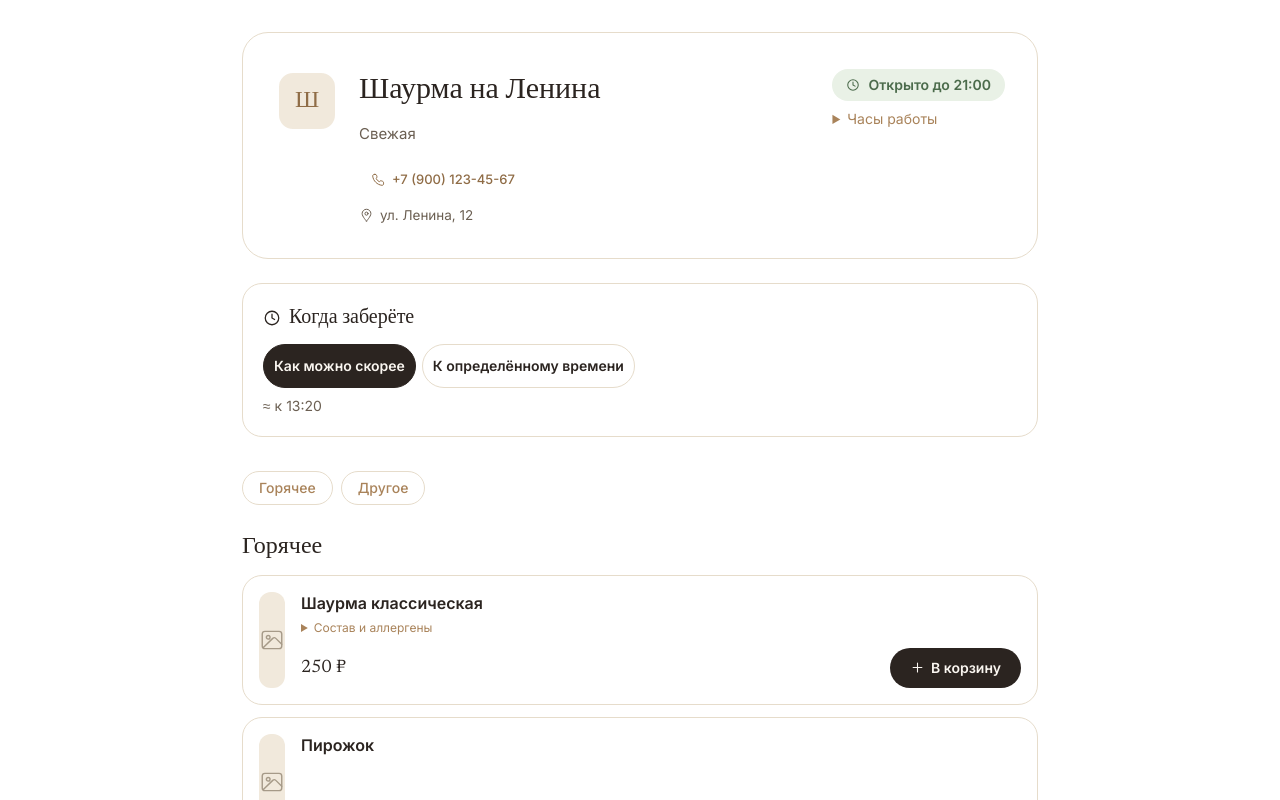
Scenario: StorefrontPage › adds to the cart, keeps it in localStorage per shop and shows the running total (≈ for weight)
expect the heading "Шаурма на Ленина" is shown: met, box top-left (359, 76), bottom-right (600, 106)
Step 1. Click the button "В корзину" → (956, 668), box top-left (890, 648), bottom-right (1021, 688)
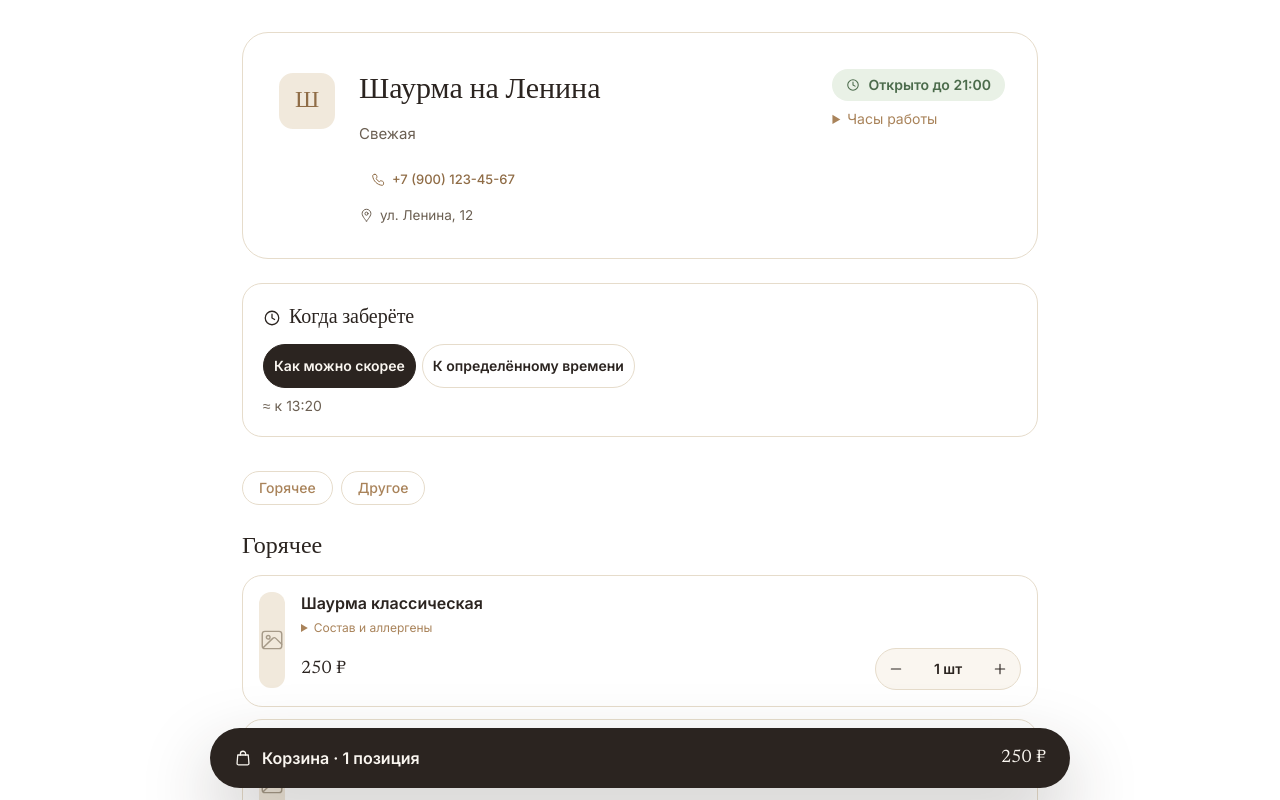
Step 2. Click the button named "Добавить ещё: Шаурма классическая" → (1000, 668), box top-left (980, 648), bottom-right (1020, 688)
(page scrolled)
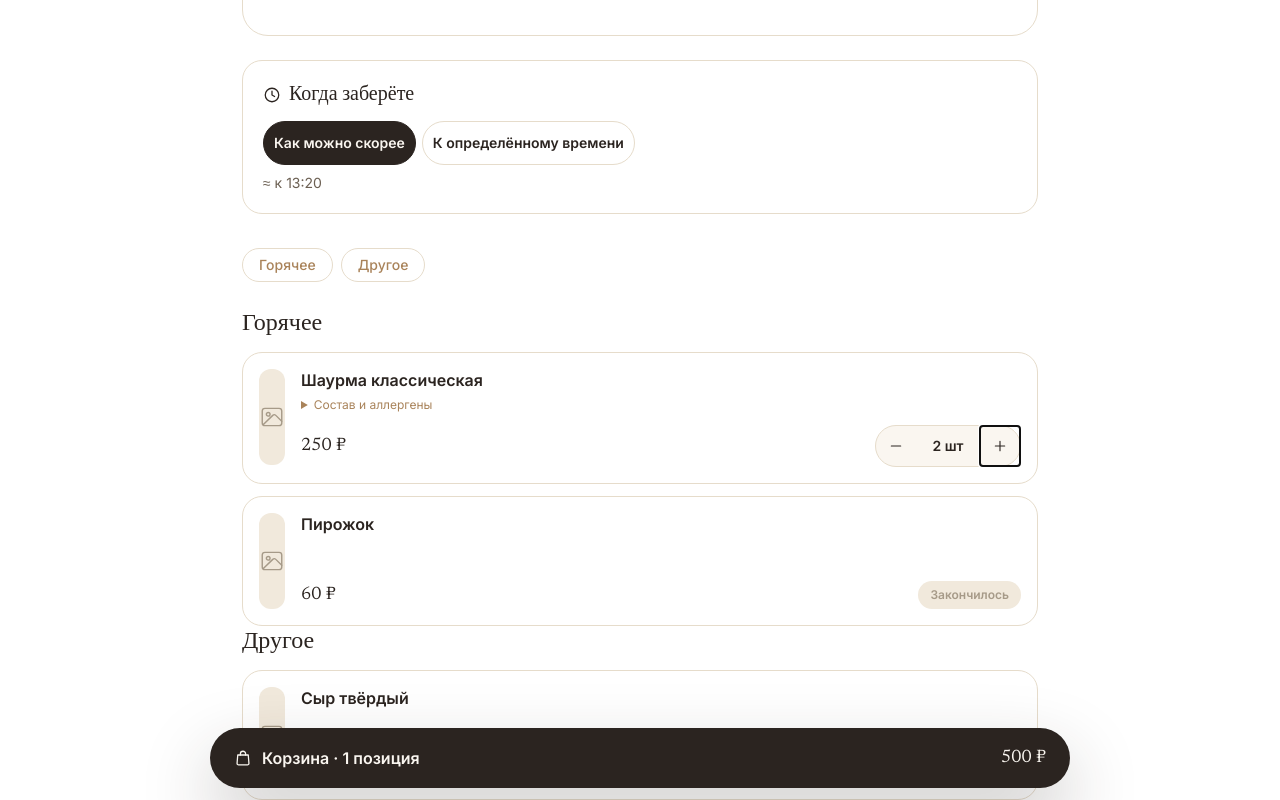
expect the text with test id "cart-bar-total" reads "500 ₽": met, box top-left (1001, 749), bottom-right (1046, 767)
a weighed product starts at its minimum (200 g) and makes the total approximate
Step 3. Click the button "В корзину" → (956, 760), box top-left (890, 740), bottom-right (1021, 780)
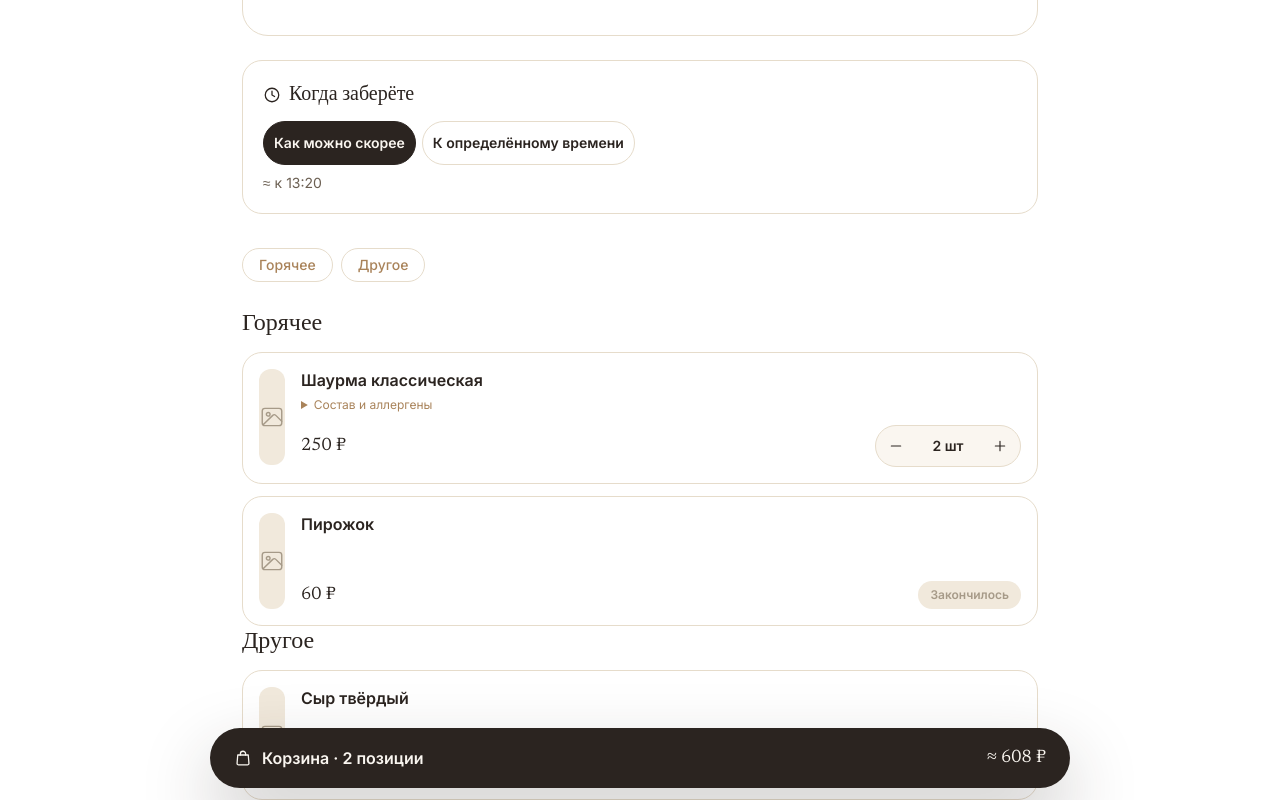
expect the text with test id "cart-bar-total" reads "≈ 608 ₽": met, box top-left (987, 749), bottom-right (1046, 767)
